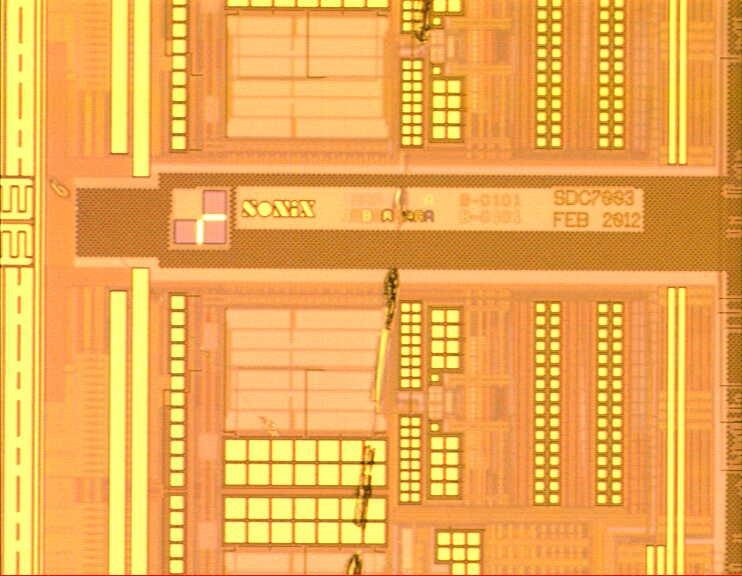SCRATCH: (344, 1, 440, 576)
